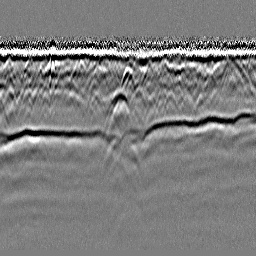cavity: (120, 64, 135, 88)
